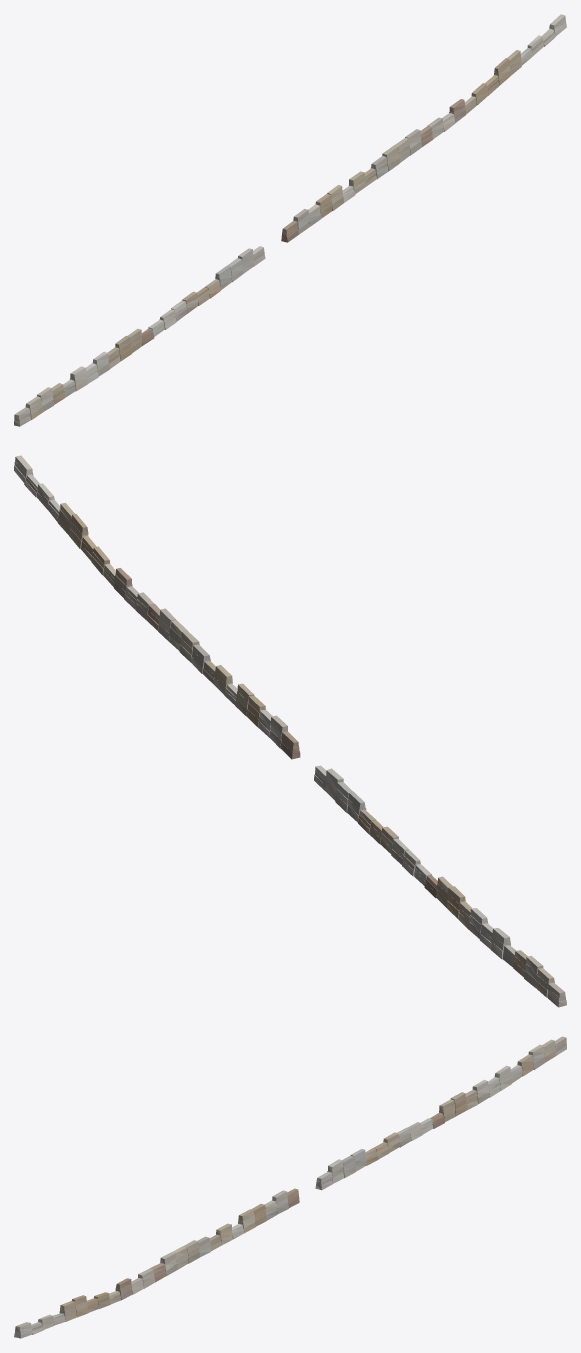
The model's file is farm_-34_-30_mid.glb.
3 renders of one model, top to bottom at view 1: azimuth 90°, elevation 25°; view 2: azimuth 150°, elevation 25°; view 3: azimuth 270°, elevation 25°, orthographic. The views are drawn at different scales.
Visible parts, largest first — view 1: geometry_0; view 2: geometry_0; view 3: geometry_0.
Part boxes in pixels (left/top/right/bottom): geometry_0: left=14, top=14, right=566, bottom=426; geometry_0: left=14, top=455, right=566, bottom=1007; geometry_0: left=14, top=1036, right=566, bottom=1338.
Size of the model in its own units: 65.26 by 5.85 by 43.98.
